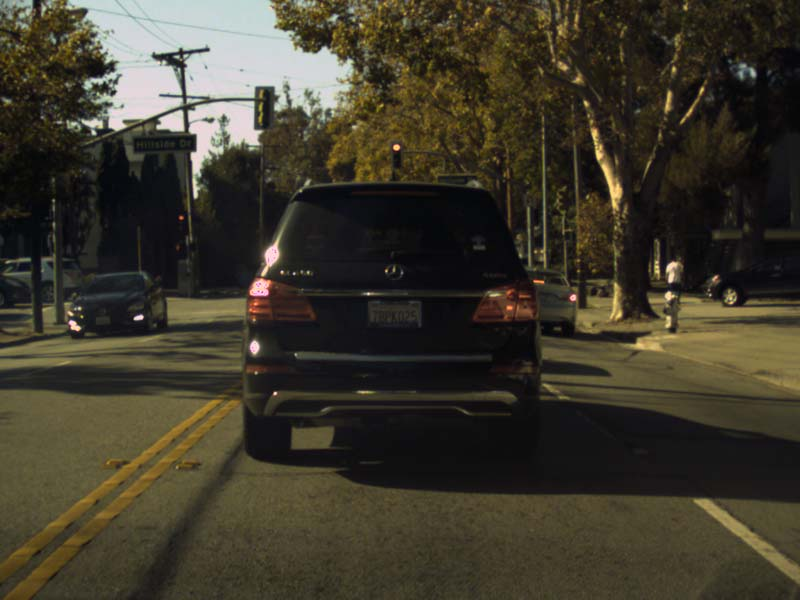Red: (391, 139, 402, 169)
